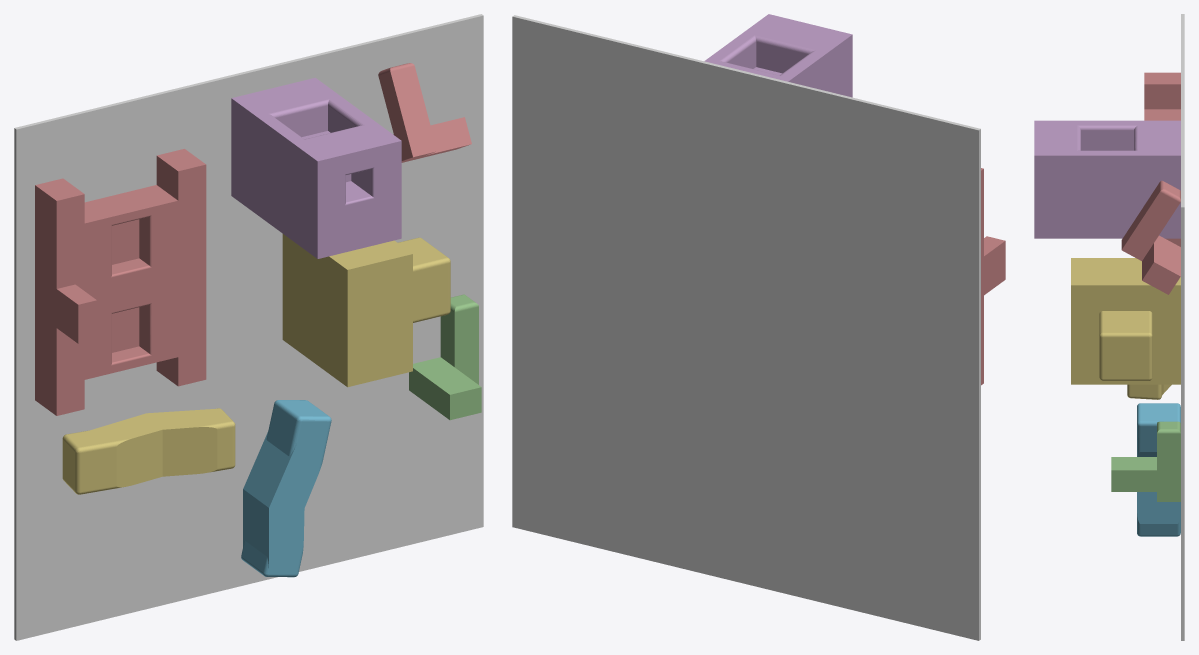
File: pickup_layout.glb
The picture shows the model from 3 angles, left to right: view 1: azimuth 30°, elevation 25°; view 2: azimuth 150°, elevation 25°; view 3: azimuth 270°, elevation 25°; orthographic projection. The views are drawn at different scales.
Visible parts, largest first — view 1: world, 0.obj, 3.obj, 6.obj, 1.obj, 2.obj, 4.obj, 5.obj; view 2: world, 3.obj, 0.obj; view 3: 3.obj, 6.obj, 5.obj, 4.obj, 2.obj, world, 0.obj, 1.obj.
Boxes of the visible parts, x1=… form: world: x1=14, y1=14, x2=483, y2=640; 0.obj: x1=35, y1=149, x2=206, y2=415; 3.obj: x1=231, y1=77, x2=401, y2=258; 6.obj: x1=282, y1=234, x2=450, y2=387; 1.obj: x1=62, y1=408, x2=235, y2=494; 2.obj: x1=241, y1=400, x2=331, y2=577; 4.obj: x1=409, y1=294, x2=481, y2=420; 5.obj: x1=378, y1=63, x2=471, y2=162; world: x1=512, y1=15, x2=980, y2=640; 3.obj: x1=704, y1=14, x2=852, y2=97; 0.obj: x1=981, y1=168, x2=1005, y2=385; 3.obj: x1=1034, y1=120, x2=1180, y2=238; 6.obj: x1=1071, y1=258, x2=1180, y2=384; 5.obj: x1=1121, y1=180, x2=1180, y2=294; 4.obj: x1=1111, y1=421, x2=1180, y2=501; 2.obj: x1=1137, y1=403, x2=1180, y2=536; world: x1=1181, y1=14, x2=1184, y2=640; 0.obj: x1=1144, y1=72, x2=1180, y2=246; 1.obj: x1=1127, y1=384, x2=1171, y2=399.
Size of the model in its own units: 25 by 26.15 by 8.2.
